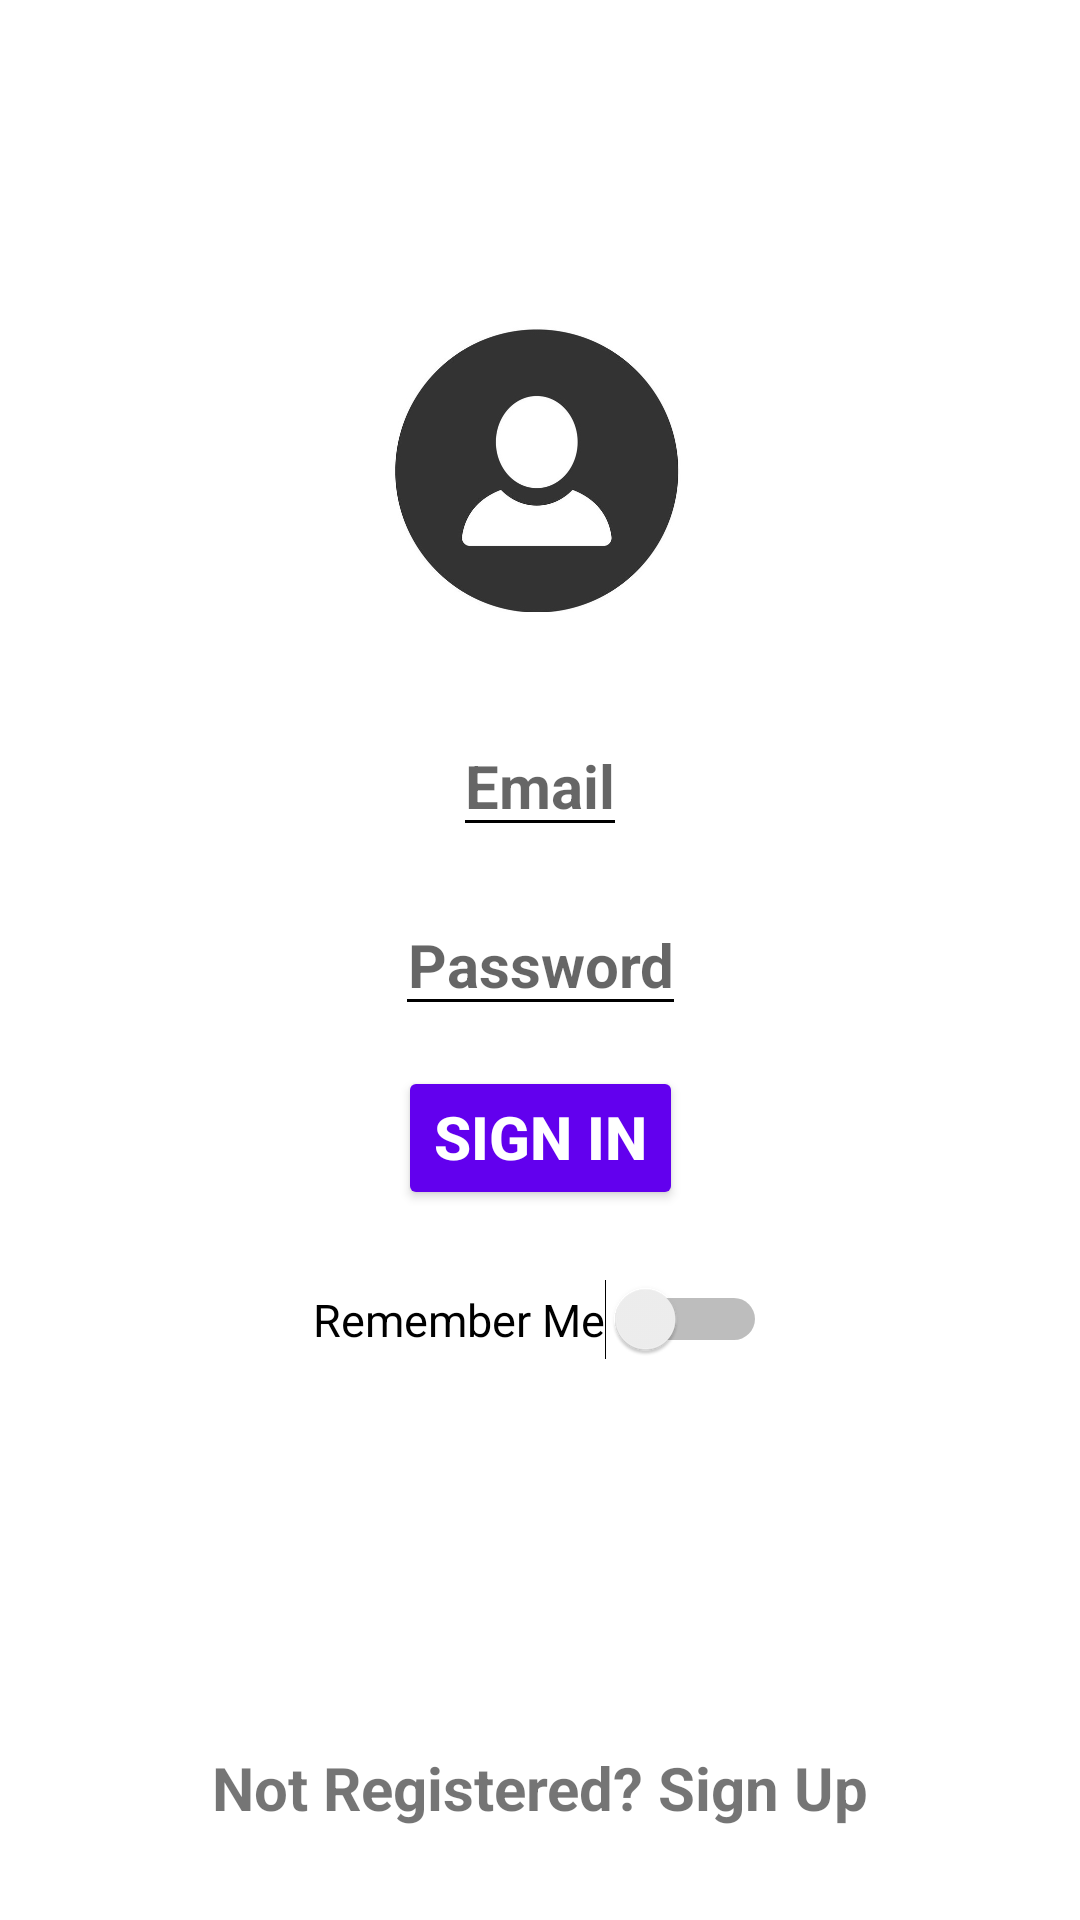

Where to tap for icons on this 1080 × 1920 app screen, as [x,y]:
user symbol: [537,470]
